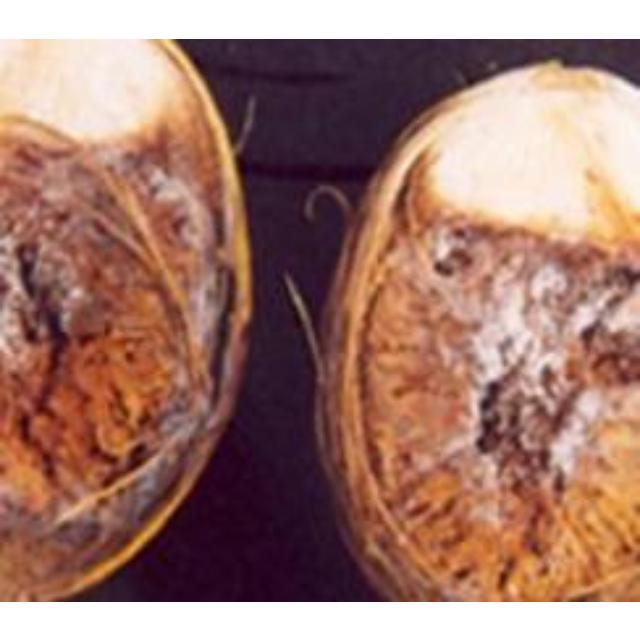damaged: (315, 59, 637, 597), (0, 38, 249, 599)
